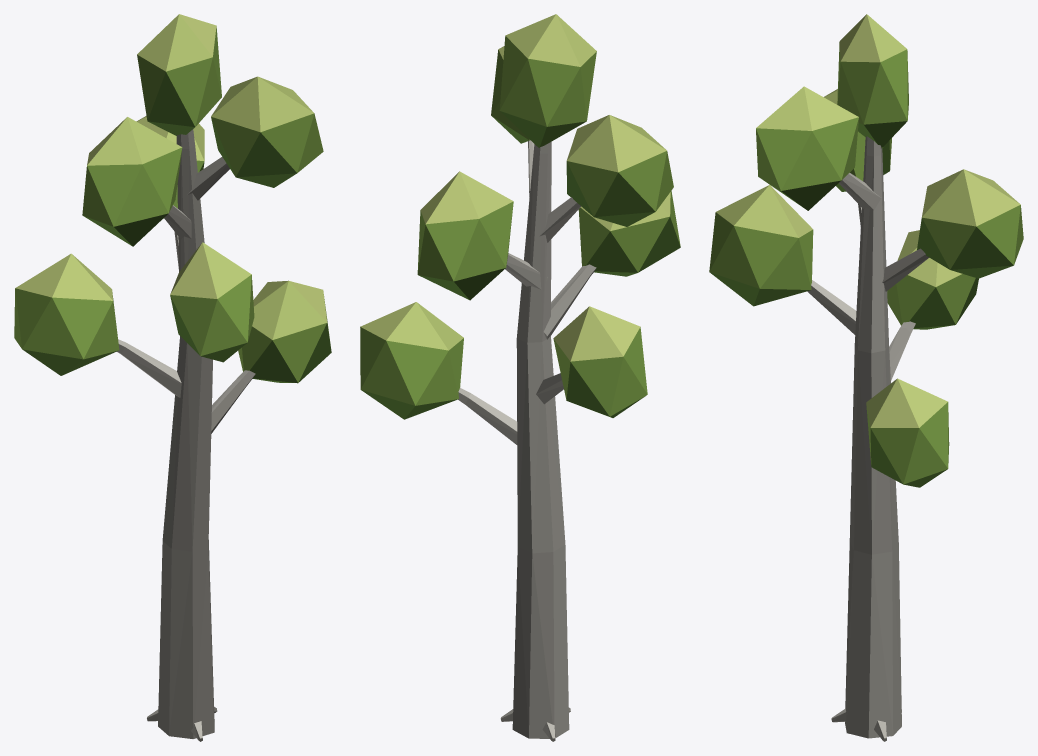
3 renders of one model, left to right at view 1: azimuth 30°, elevation 25°; view 2: azimuth 150°, elevation 25°; view 3: azimuth 270°, elevation 25°, orthographic.
Visible parts, largest first — view 1: WK_Tree_Birch_FreshSlender_LOD0_High; view 2: WK_Tree_Birch_FreshSlender_LOD0_High; view 3: WK_Tree_Birch_FreshSlender_LOD0_High.
Boxes of the visible parts, left/top/right/bottom form: WK_Tree_Birch_FreshSlender_LOD0_High: left=14, top=14, right=331, bottom=741; WK_Tree_Birch_FreshSlender_LOD0_High: left=360, top=14, right=680, bottom=741; WK_Tree_Birch_FreshSlender_LOD0_High: left=709, top=14, right=1023, bottom=741.
Size of the model in its own units: 3.22 by 7.47 by 3.01.
